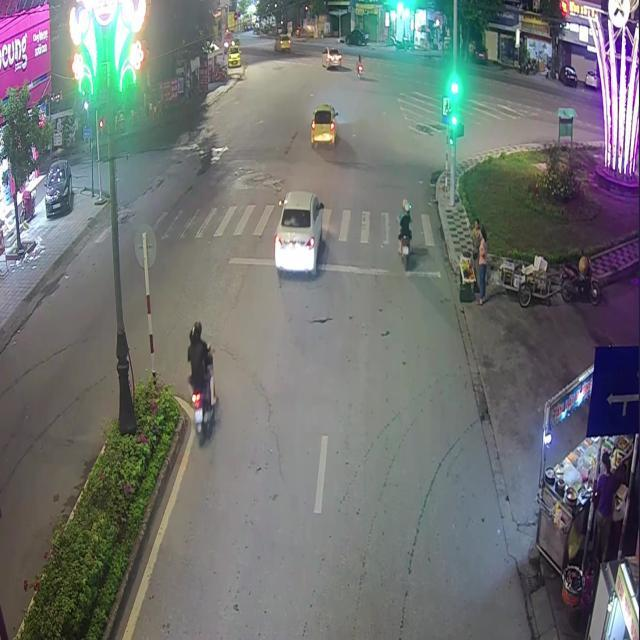car: (274, 189, 323, 275)
green_light: (447, 77, 460, 131)
motobike: (186, 321, 216, 439)
stop_line: (228, 256, 440, 277)
